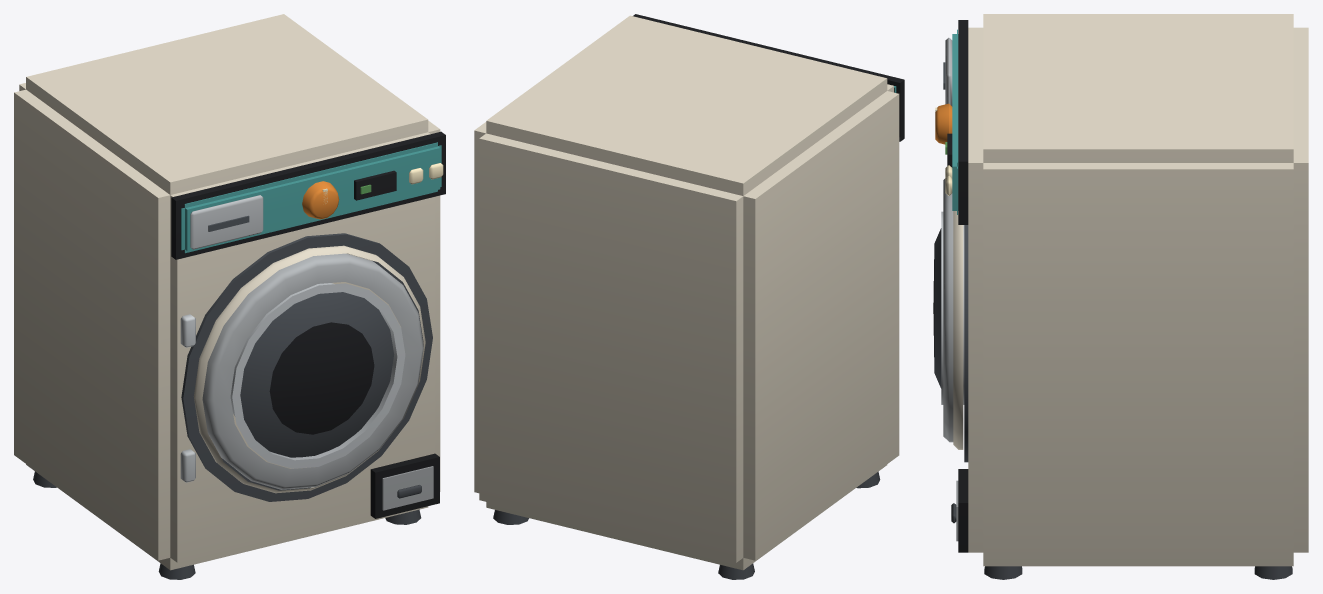
Rendered from Washer_Front_01.glb.
3 views of the same model, side by side, from view 1: azimuth 30°, elevation 25°; view 2: azimuth 150°, elevation 25°; view 3: azimuth 270°, elevation 25° (orthographic). The views are drawn at different scales.
Parts seen in each view (by area): view 1: SM_Washer_Front_01; view 2: SM_Washer_Front_01; view 3: SM_Washer_Front_01.
Boxes of the visible parts, x1,y1,x2,y2 form: SM_Washer_Front_01: (14,14,445,579); SM_Washer_Front_01: (474,14,904,579); SM_Washer_Front_01: (933,14,1308,579).
Size of the model in its own units: 0.7 by 0.95 by 0.75.
Materials: 1 (1 with a texture image).
